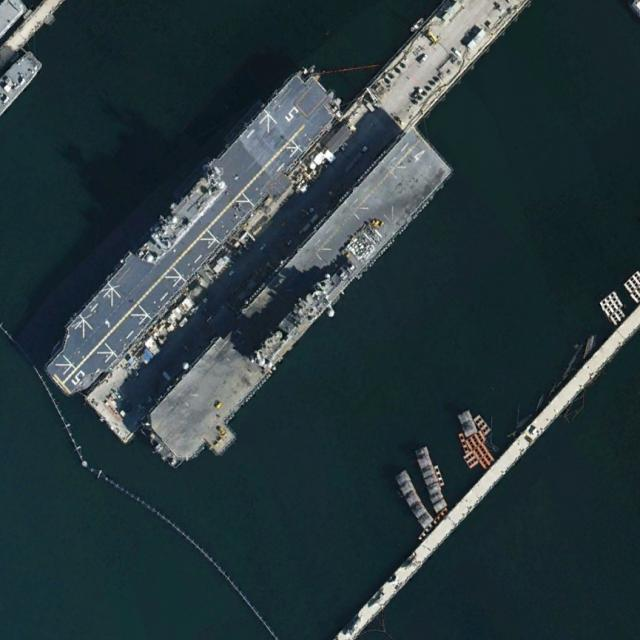Landing: (132, 123, 465, 490), (33, 57, 349, 407)
